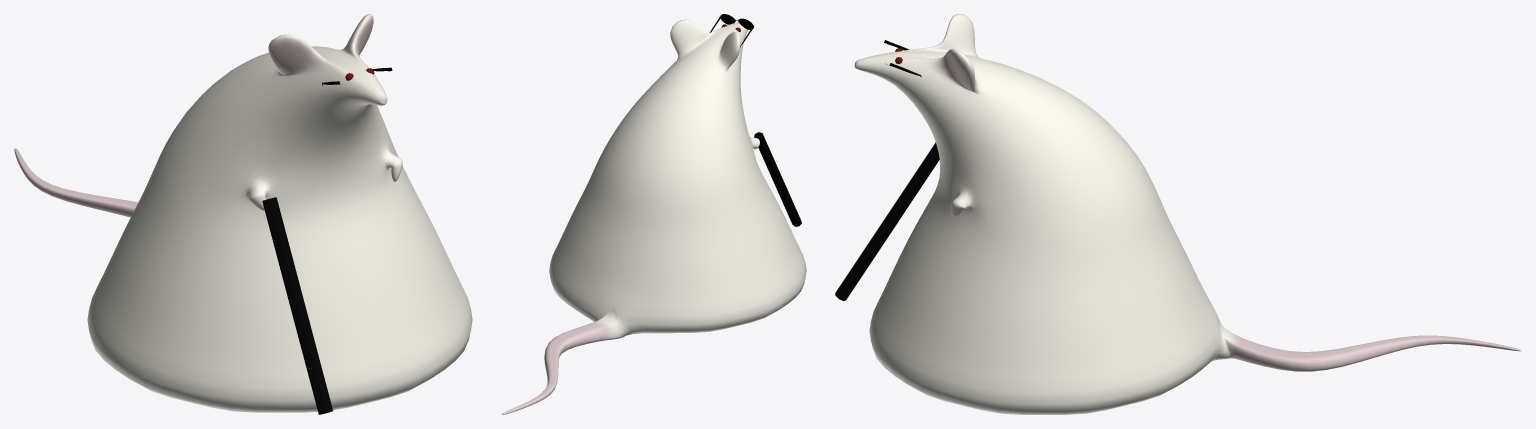
Rendered from rat.glb.
The picture shows the model from 3 angles, left to right: view 1: azimuth 30°, elevation 25°; view 2: azimuth 150°, elevation 25°; view 3: azimuth 270°, elevation 25°; orthographic projection. The views are drawn at different scales.
Visible parts, largest first — view 1: Ret, Cylinder; view 2: Ret, Cylinder, sunglasses; view 3: Ret, Cylinder.
Boxes of the visible parts, x1,y1,x2,y2 form: Ret: (14,14,472,412); Cylinder: (262,197,332,414); Ret: (501,19,806,414); Cylinder: (754,132,801,226); sunglasses: (709,14,754,47); Ret: (854,14,1521,414); Cylinder: (835,142,939,300).
Bounding box in the file's own units: 2 × 2.04 × 3.95.
Materials: 2 (1 with a texture image).
